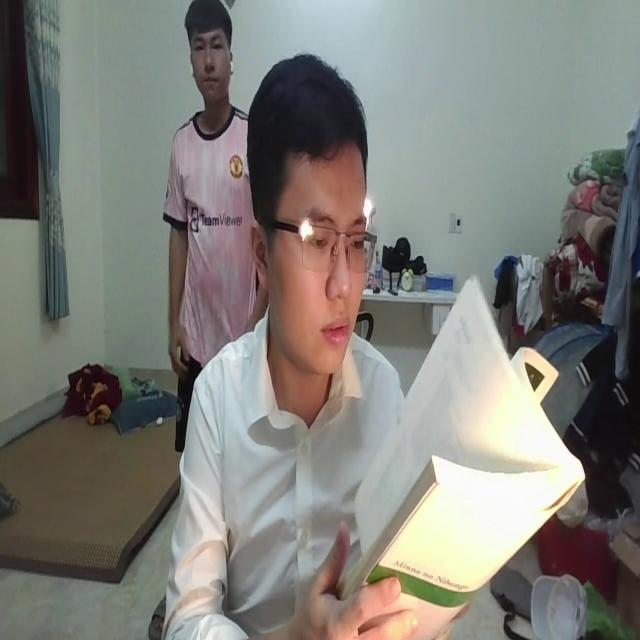book: (342, 275, 583, 640)
extra_person: (161, 0, 266, 388)
student: (168, 46, 407, 640)
